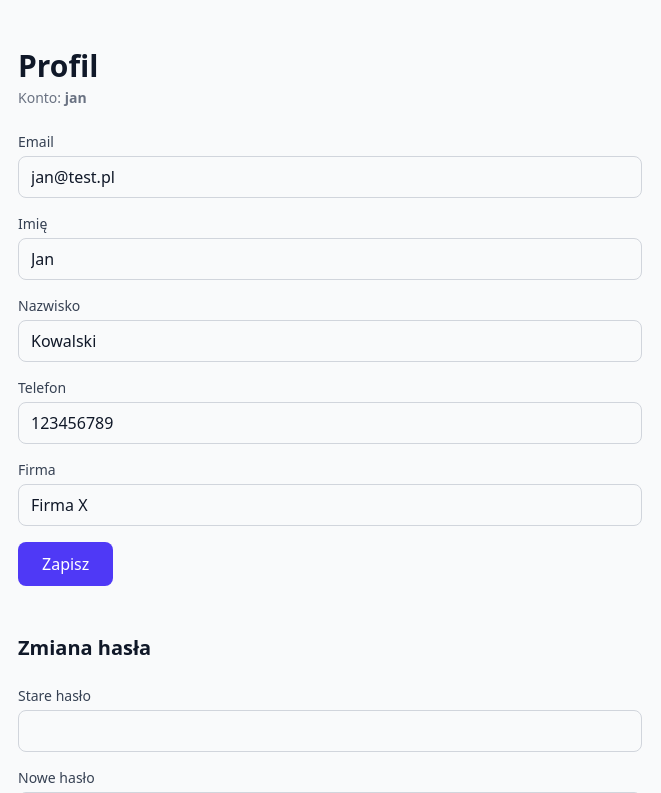
Test: ProfilePage — password form › shows field error from API on failure
The width and height of the screenshot is (661, 793).
Step 1. Type "OldPass1!" into the password field labelled "Stare hasło" → (330, 731), box [18,710,642,752]
(page scrolled)
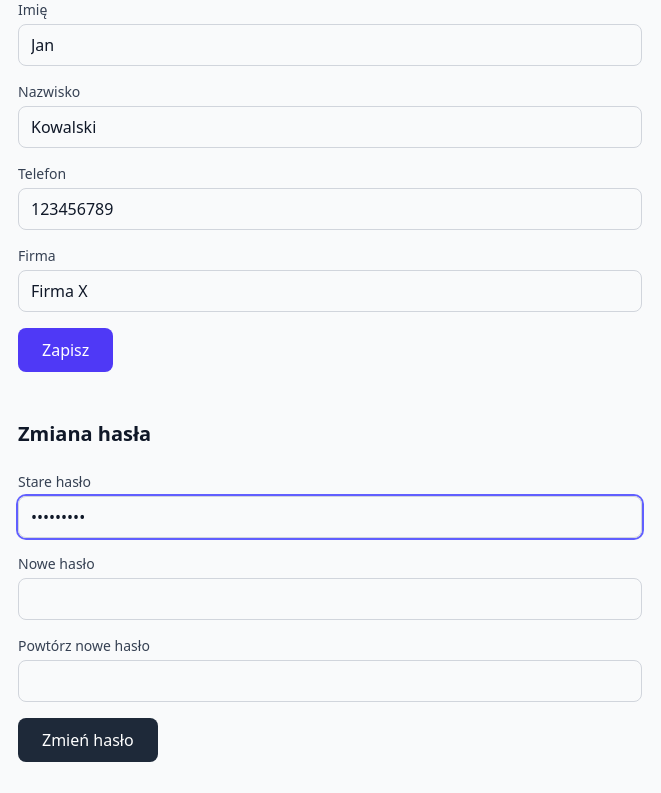
Step 2. Type "NewPass1!" into the password field labelled "Nowe hasło" → (330, 599), box [18,578,642,620]
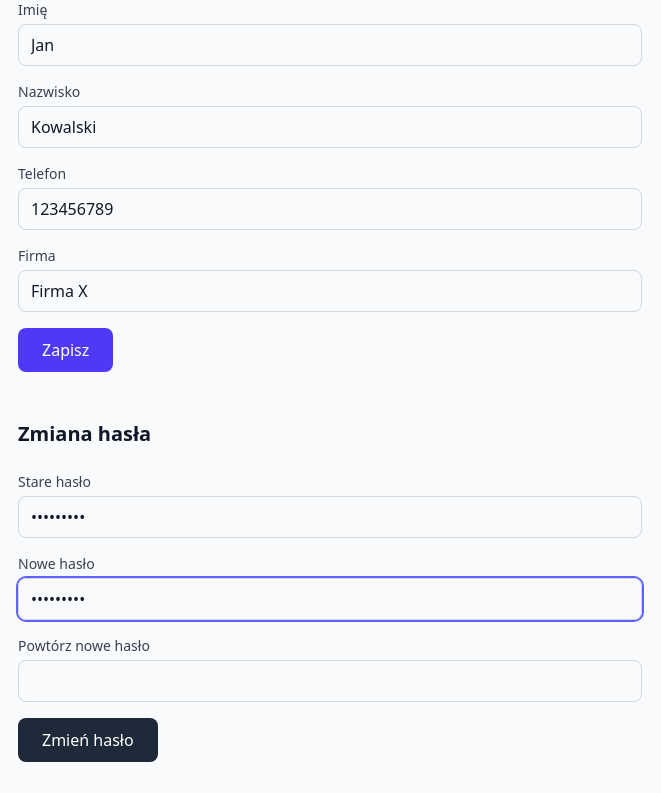
Step 3. Type "NewPass1!" into the password field labelled "Powtórz nowe hasło" → (330, 681), box [18,660,642,702]
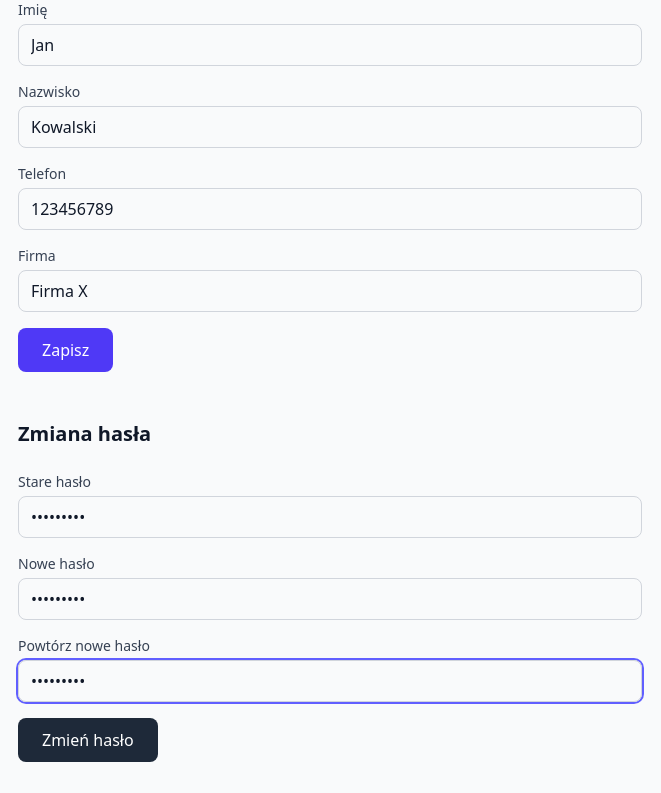
Step 4. Click the button "Zmień hasło" → (88, 740), box [18,718,158,762]
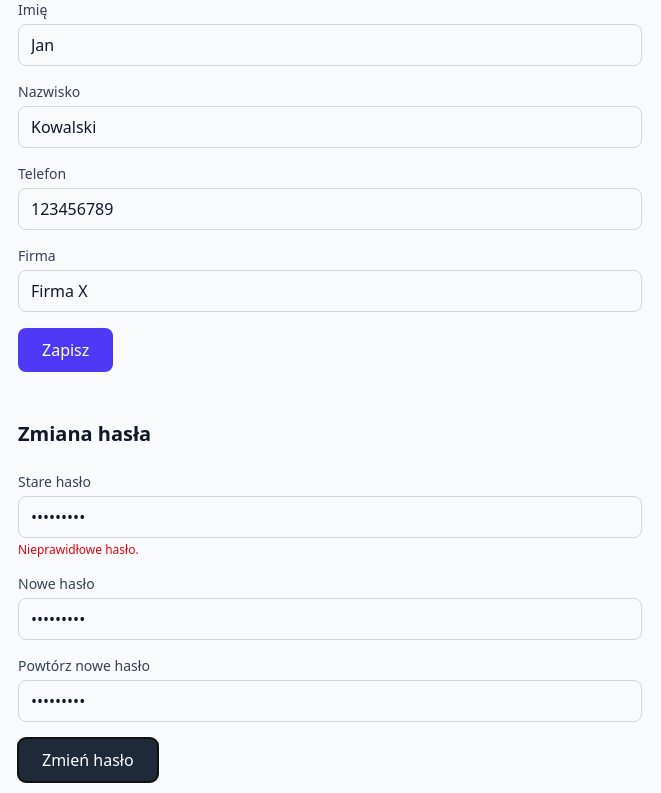
Expected: the text "Nieprawidłowe hasło." is shown, [18,541,139,558]
